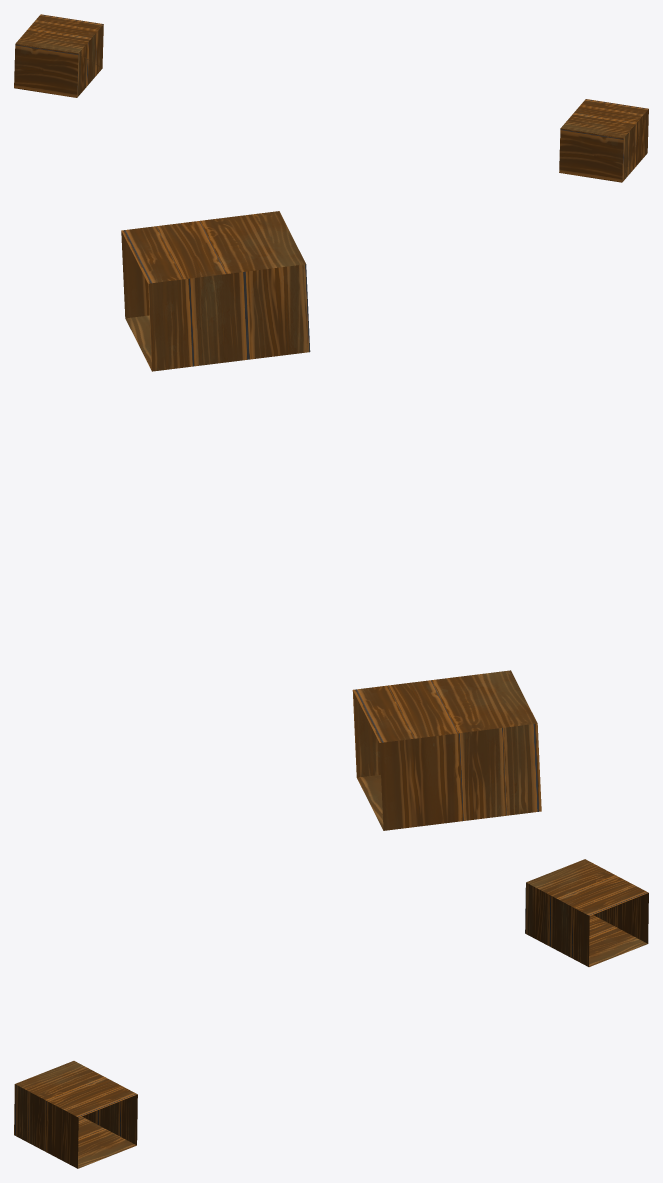
3 views of the same model, one above another, from view 1: azimuth 30°, elevation 25°; view 2: azimuth 150°, elevation 25°; view 3: azimuth 270°, elevation 25° (orthographic). The views are drawn at different scales.
Parts seen in each view (by area): view 1: Cube.723; view 2: Cube.723; view 3: Cube.723.
Boxes of the visible parts, x1,y1,x2,y2 form: Cube.723: (14, 14, 648, 182); Cube.723: (121, 211, 541, 830); Cube.723: (14, 859, 648, 1168).
Size of the model in its own units: 686 by 86.36 by 750.
1 material, 1 textured.
